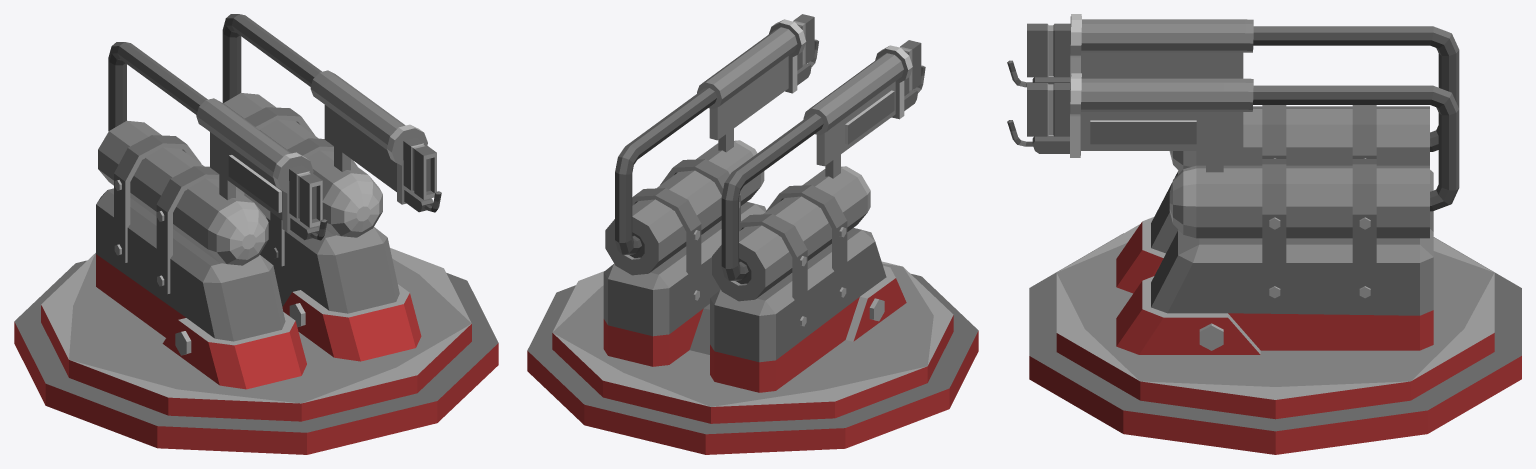
The model's file is tower_napalm_red_1.fbx.
The picture shows the model from 3 angles, left to right: view 1: azimuth 30°, elevation 25°; view 2: azimuth 150°, elevation 25°; view 3: azimuth 270°, elevation 25°; orthographic projection. The views are drawn at different scales.
Visible parts, largest first — view 1: top_napalm_red_1, tower_napalm_red_1; view 2: top_napalm_red_1, tower_napalm_red_1; view 3: top_napalm_red_1, tower_napalm_red_1.
Part boxes in pixels (x1,y1,x2,y2): top_napalm_red_1: (96, 14, 441, 389); tower_napalm_red_1: (14, 248, 498, 454); top_napalm_red_1: (603, 14, 925, 392); tower_napalm_red_1: (527, 261, 978, 454); top_napalm_red_1: (1007, 14, 1459, 354); tower_napalm_red_1: (1029, 224, 1521, 454).
Size of the model in its own units: 170 by 109 by 169.
